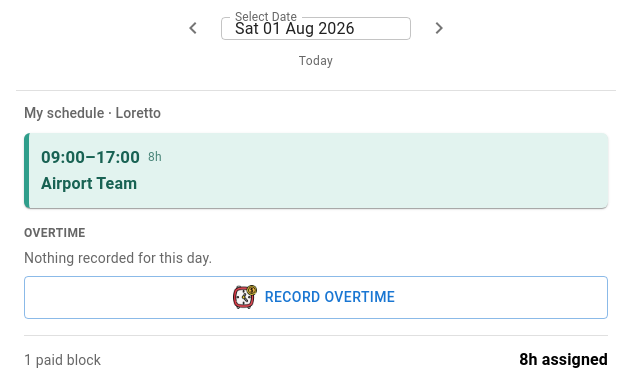
repaints a revisited day from cache, then refreshes it
The image size is (633, 385).
expect the text "Airport Team" is shown: met, box x1=41 y1=174 x2=137 y2=193
Click the button named "Next day" at (439,28), box x1=419 y1=8 x2=459 y2=48
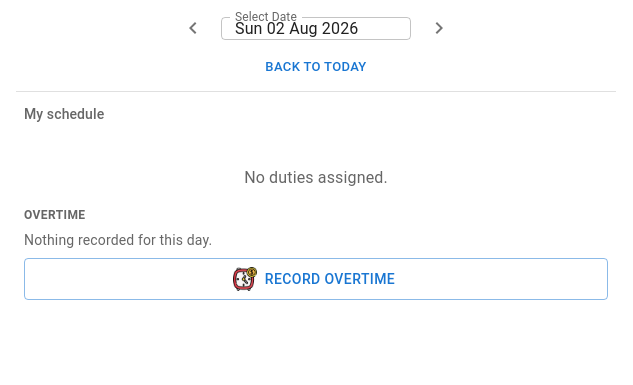
expect the text "No duties assigned." is shown: met, box x1=244 y1=168 x2=388 y2=187
Click the button named "Previous day" at (193,28), box x1=173 y1=8 x2=213 y2=48
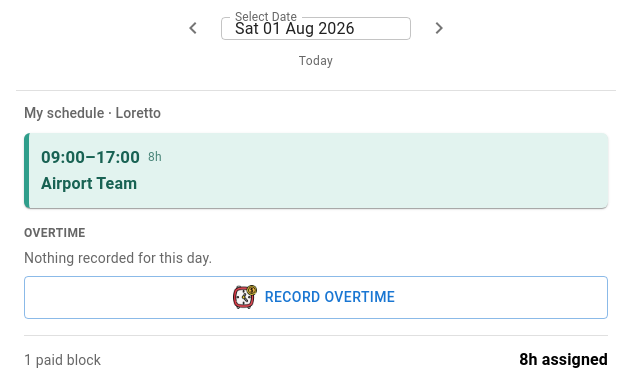
expect the text "Airport Team" is shown: met, box x1=41 y1=174 x2=137 y2=193
